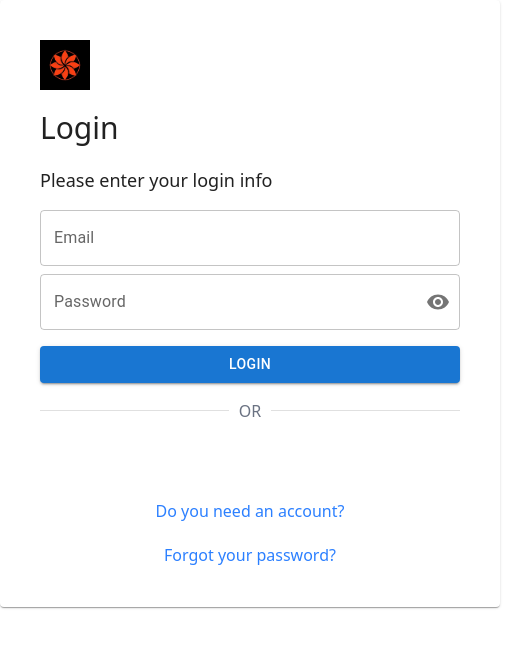
Test: SignInPage - User Flows › Form Validation › shows validation errors for invalid input
// Try to submit empty form
Step 1. Click the button with test id "login-button" → (250, 364), box 40,346 -> 460,382
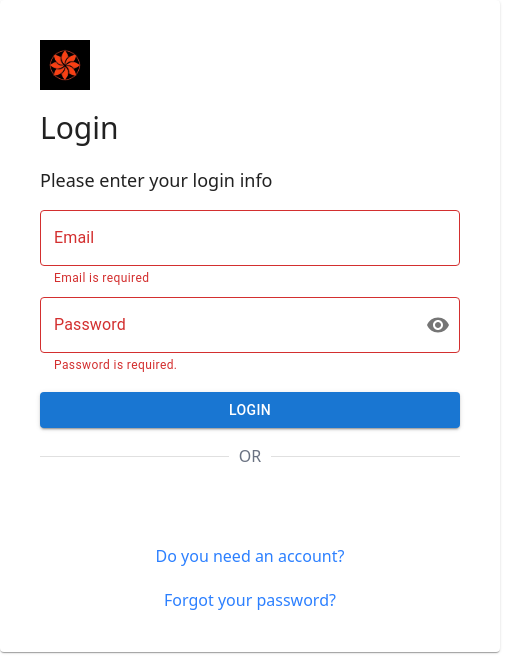
Now the text "Email is required" is shown, box 54,271 -> 149,285
